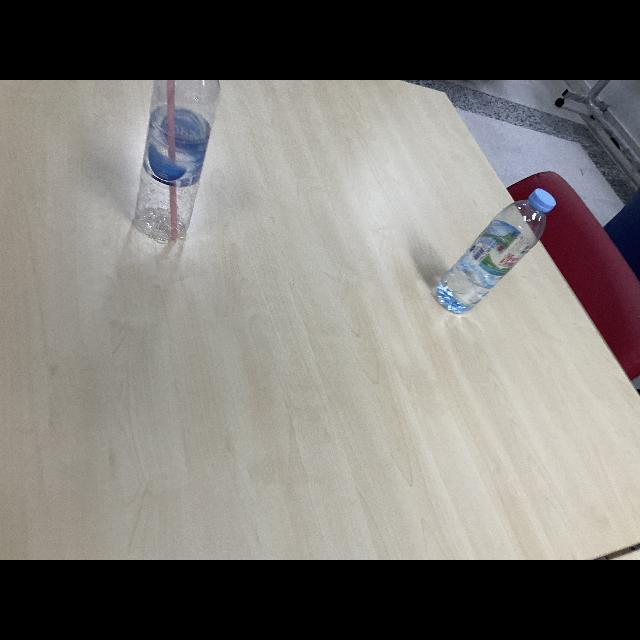plastic_bottle: (433, 186, 559, 314), (134, 80, 220, 244)
plastic_bottle_cap: (530, 190, 556, 212)
straw: (164, 80, 180, 242)
